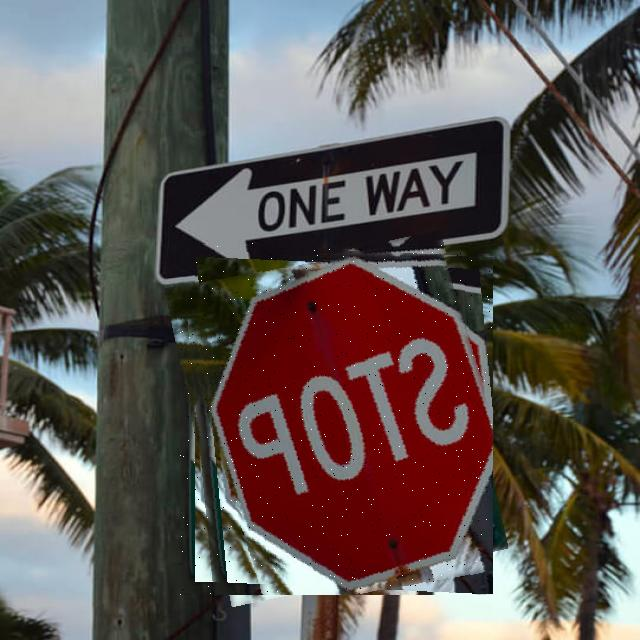stop: (180, 243, 493, 595)
